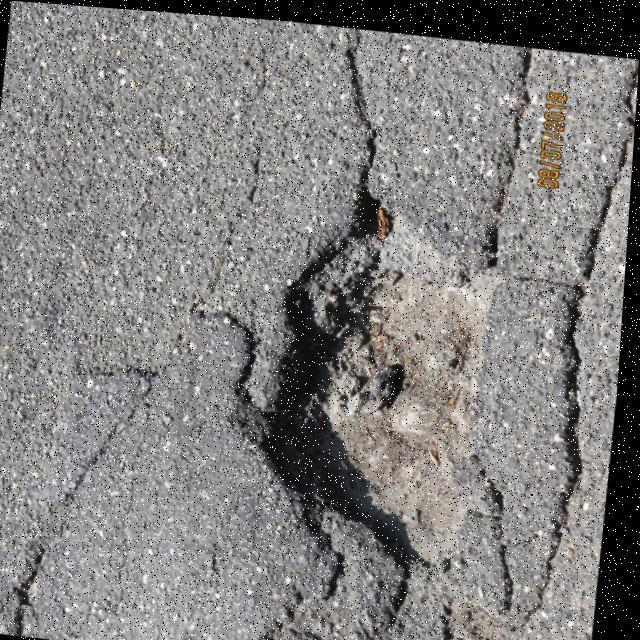Pothole: (261, 161, 498, 567)
